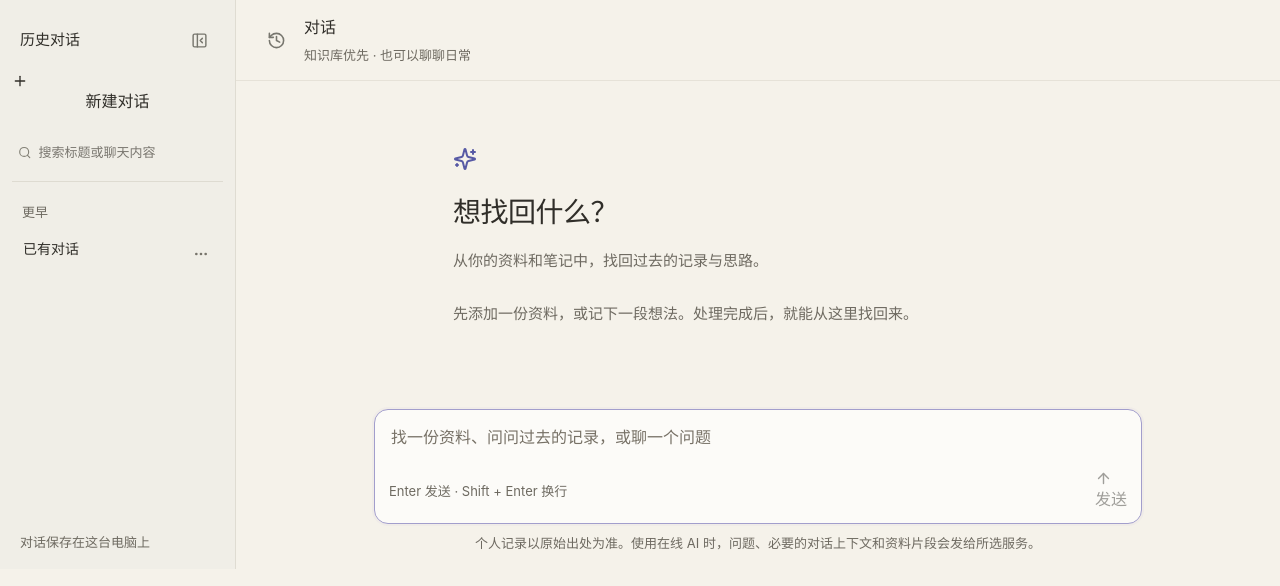
Scenario: ignores late tokens and results after switching conversation
Expected: the text "已有对话" is shown, 23,240 -> 79,257
Type "测试问题" into the text box with placeholder "找一份资料、问问过去的记录，或聊一个问题".
click(758, 446); type("测试问题")  # box 389,422 -> 1127,470
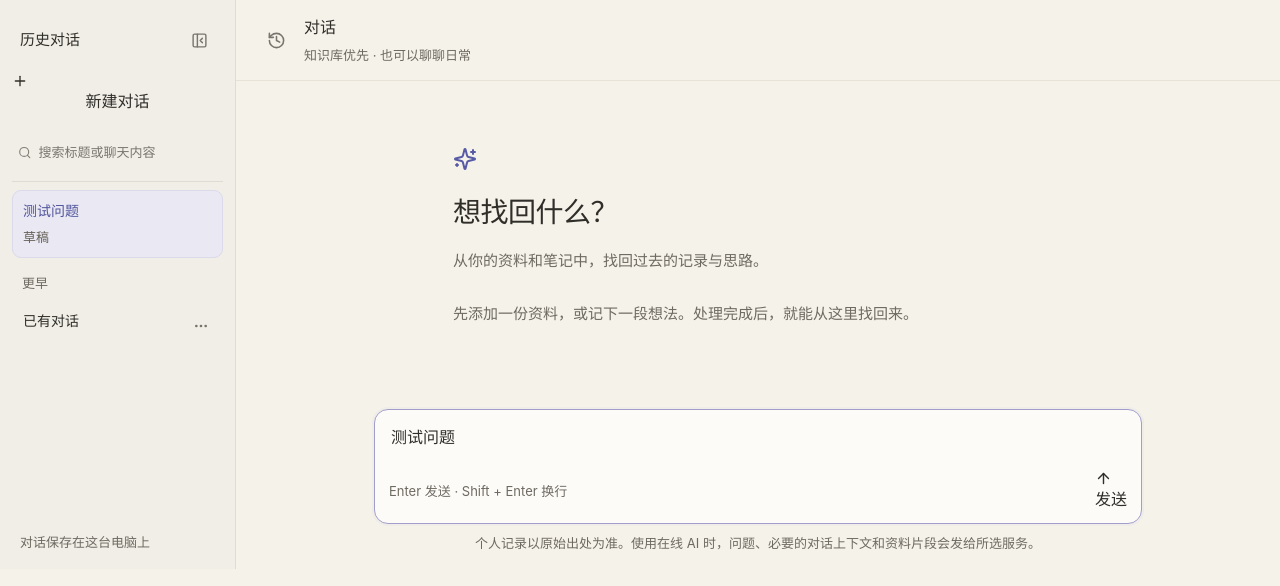
Press Enter in the text box with placeholder "找一份资料、问问过去的记录，或聊一个问题", box 389,422 -> 1127,470
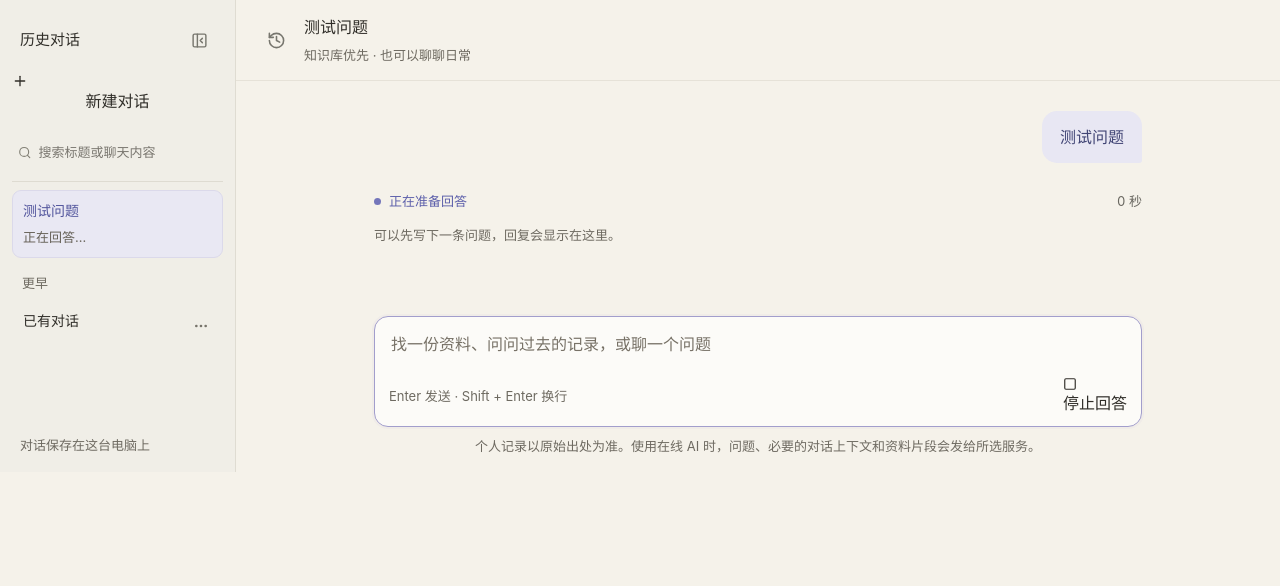
Click the button "已有对话".
click(118, 321)  # box 12,300 -> 223,342
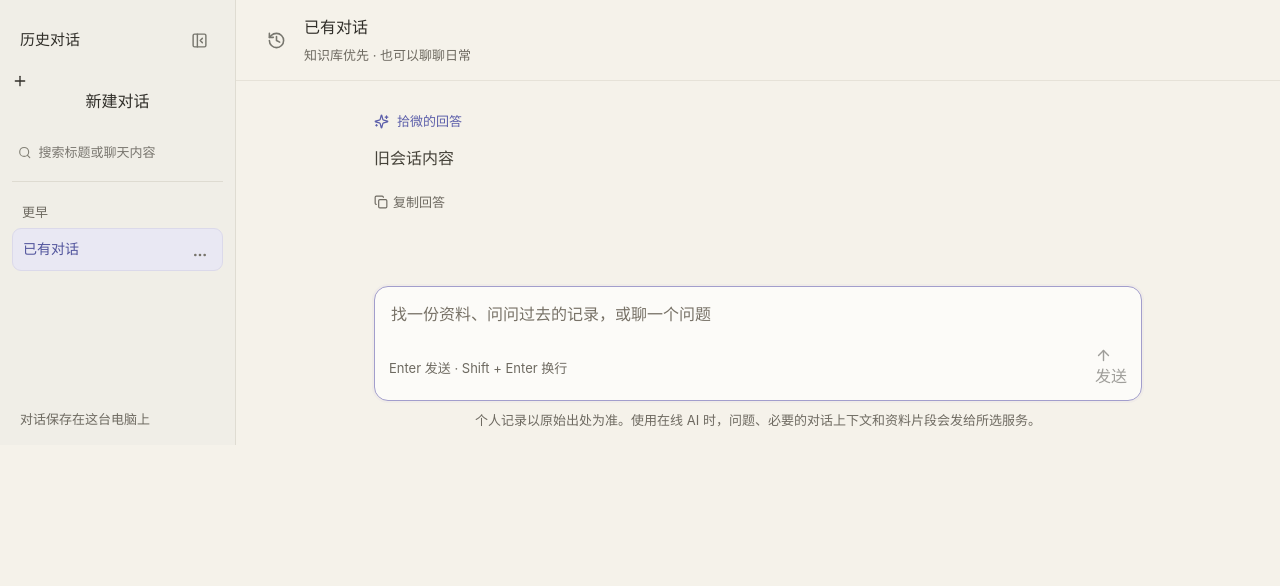
Result: the text "旧会话内容" is shown at 374,148 -> 454,168
